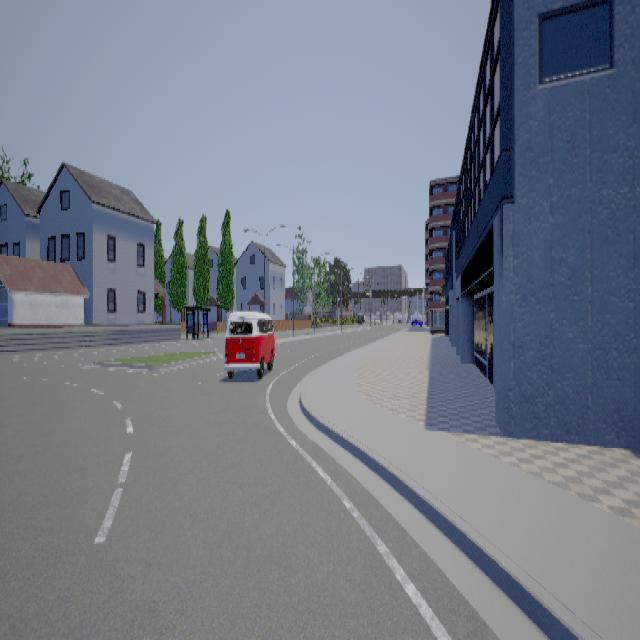vehicle: (223, 310, 275, 377)
